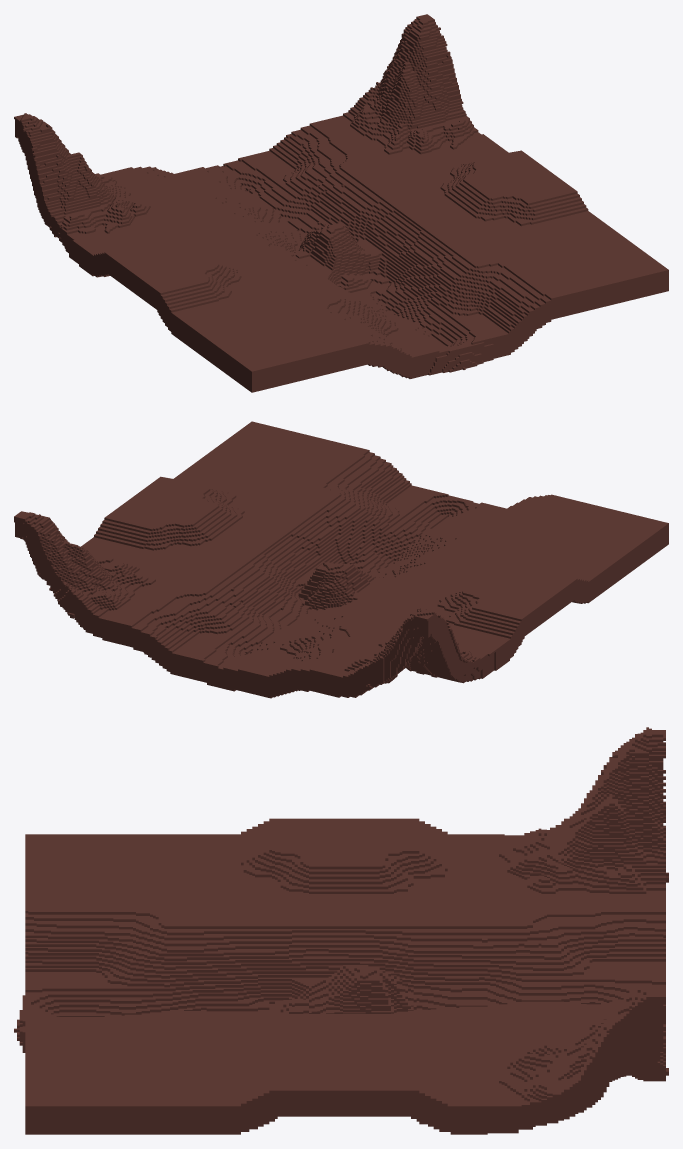
File: map 1.0 .fbx
The picture shows the model from 3 angles, top to bottom: view 1: azimuth 30°, elevation 25°; view 2: azimuth 150°, elevation 25°; view 3: azimuth 270°, elevation 25°; orthographic projection. The views are drawn at different scales.
Parts seen in each view (by area): view 1: Grid; view 2: Grid; view 3: Grid.
Part boxes in pixels (x1,y1,x2,y2): Grid: (14, 14, 668, 392); Grid: (14, 421, 668, 698); Grid: (14, 727, 668, 1134).
Bounding box in the file's own units: 1602 × 529 × 1630.
